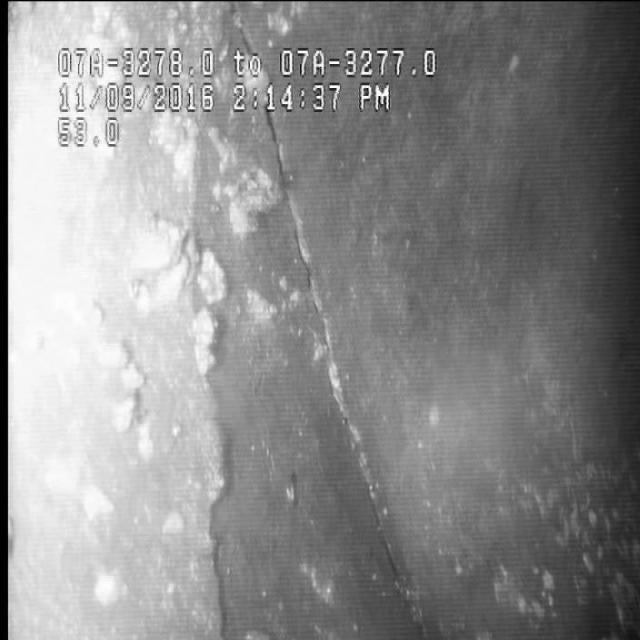Crack: (266, 150, 392, 540)
